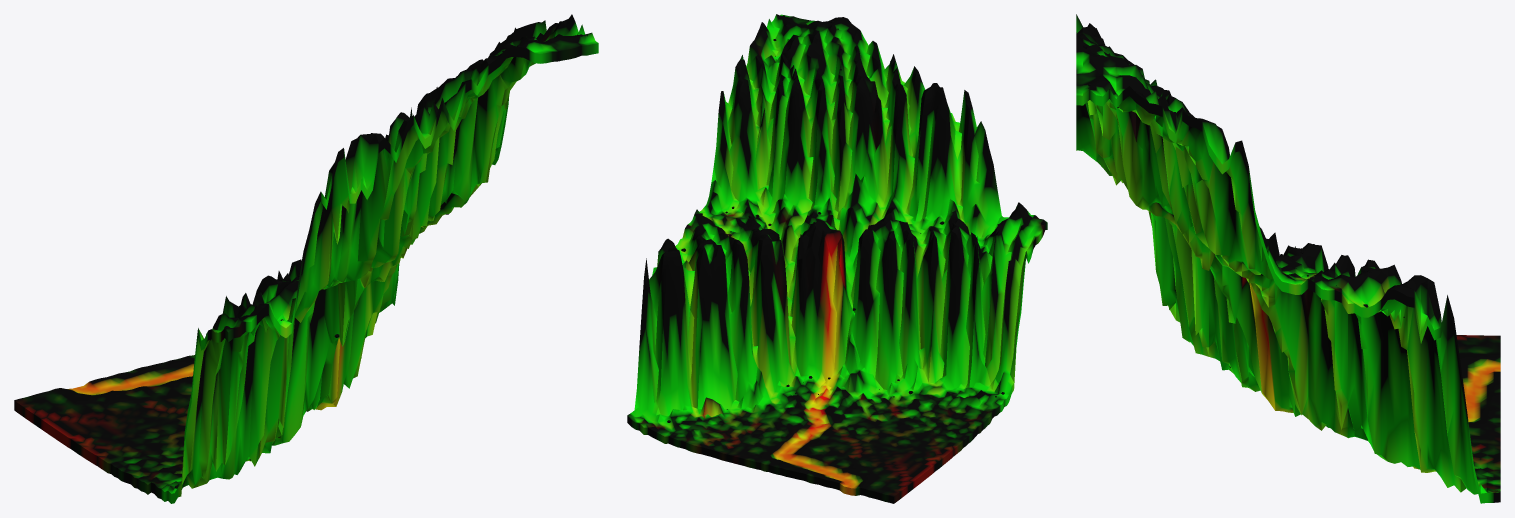
Rendered from Terrain_06_02.fbx.
The picture shows the model from 3 angles, left to right: view 1: azimuth 30°, elevation 25°; view 2: azimuth 150°, elevation 25°; view 3: azimuth 270°, elevation 25°; orthographic projection. The views are drawn at different scales.
Parts seen in each view (by area): view 1: Terrain_06_02_LOD0; view 2: Terrain_06_02_LOD0; view 3: Terrain_06_02_LOD0.
Part boxes in pixels (x1,y1,x2,y2): Terrain_06_02_LOD0: [14, 14, 598, 503]; Terrain_06_02_LOD0: [627, 14, 1047, 503]; Terrain_06_02_LOD0: [1076, 14, 1500, 503].
Size of what is drawn, in the model's own units: 385 by 449 by 384.
